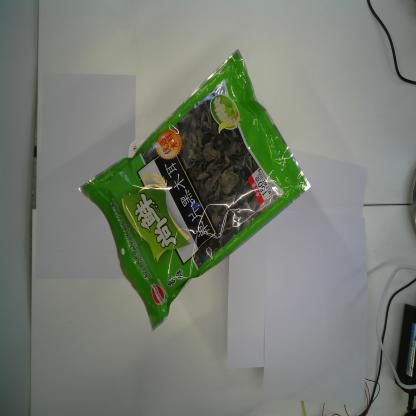Dried Food: (74, 46, 311, 332)
